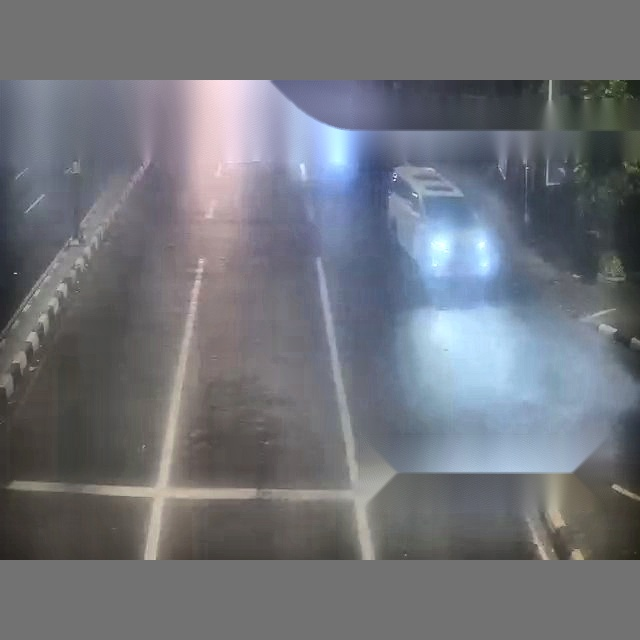Bis: (302, 166, 639, 472)
